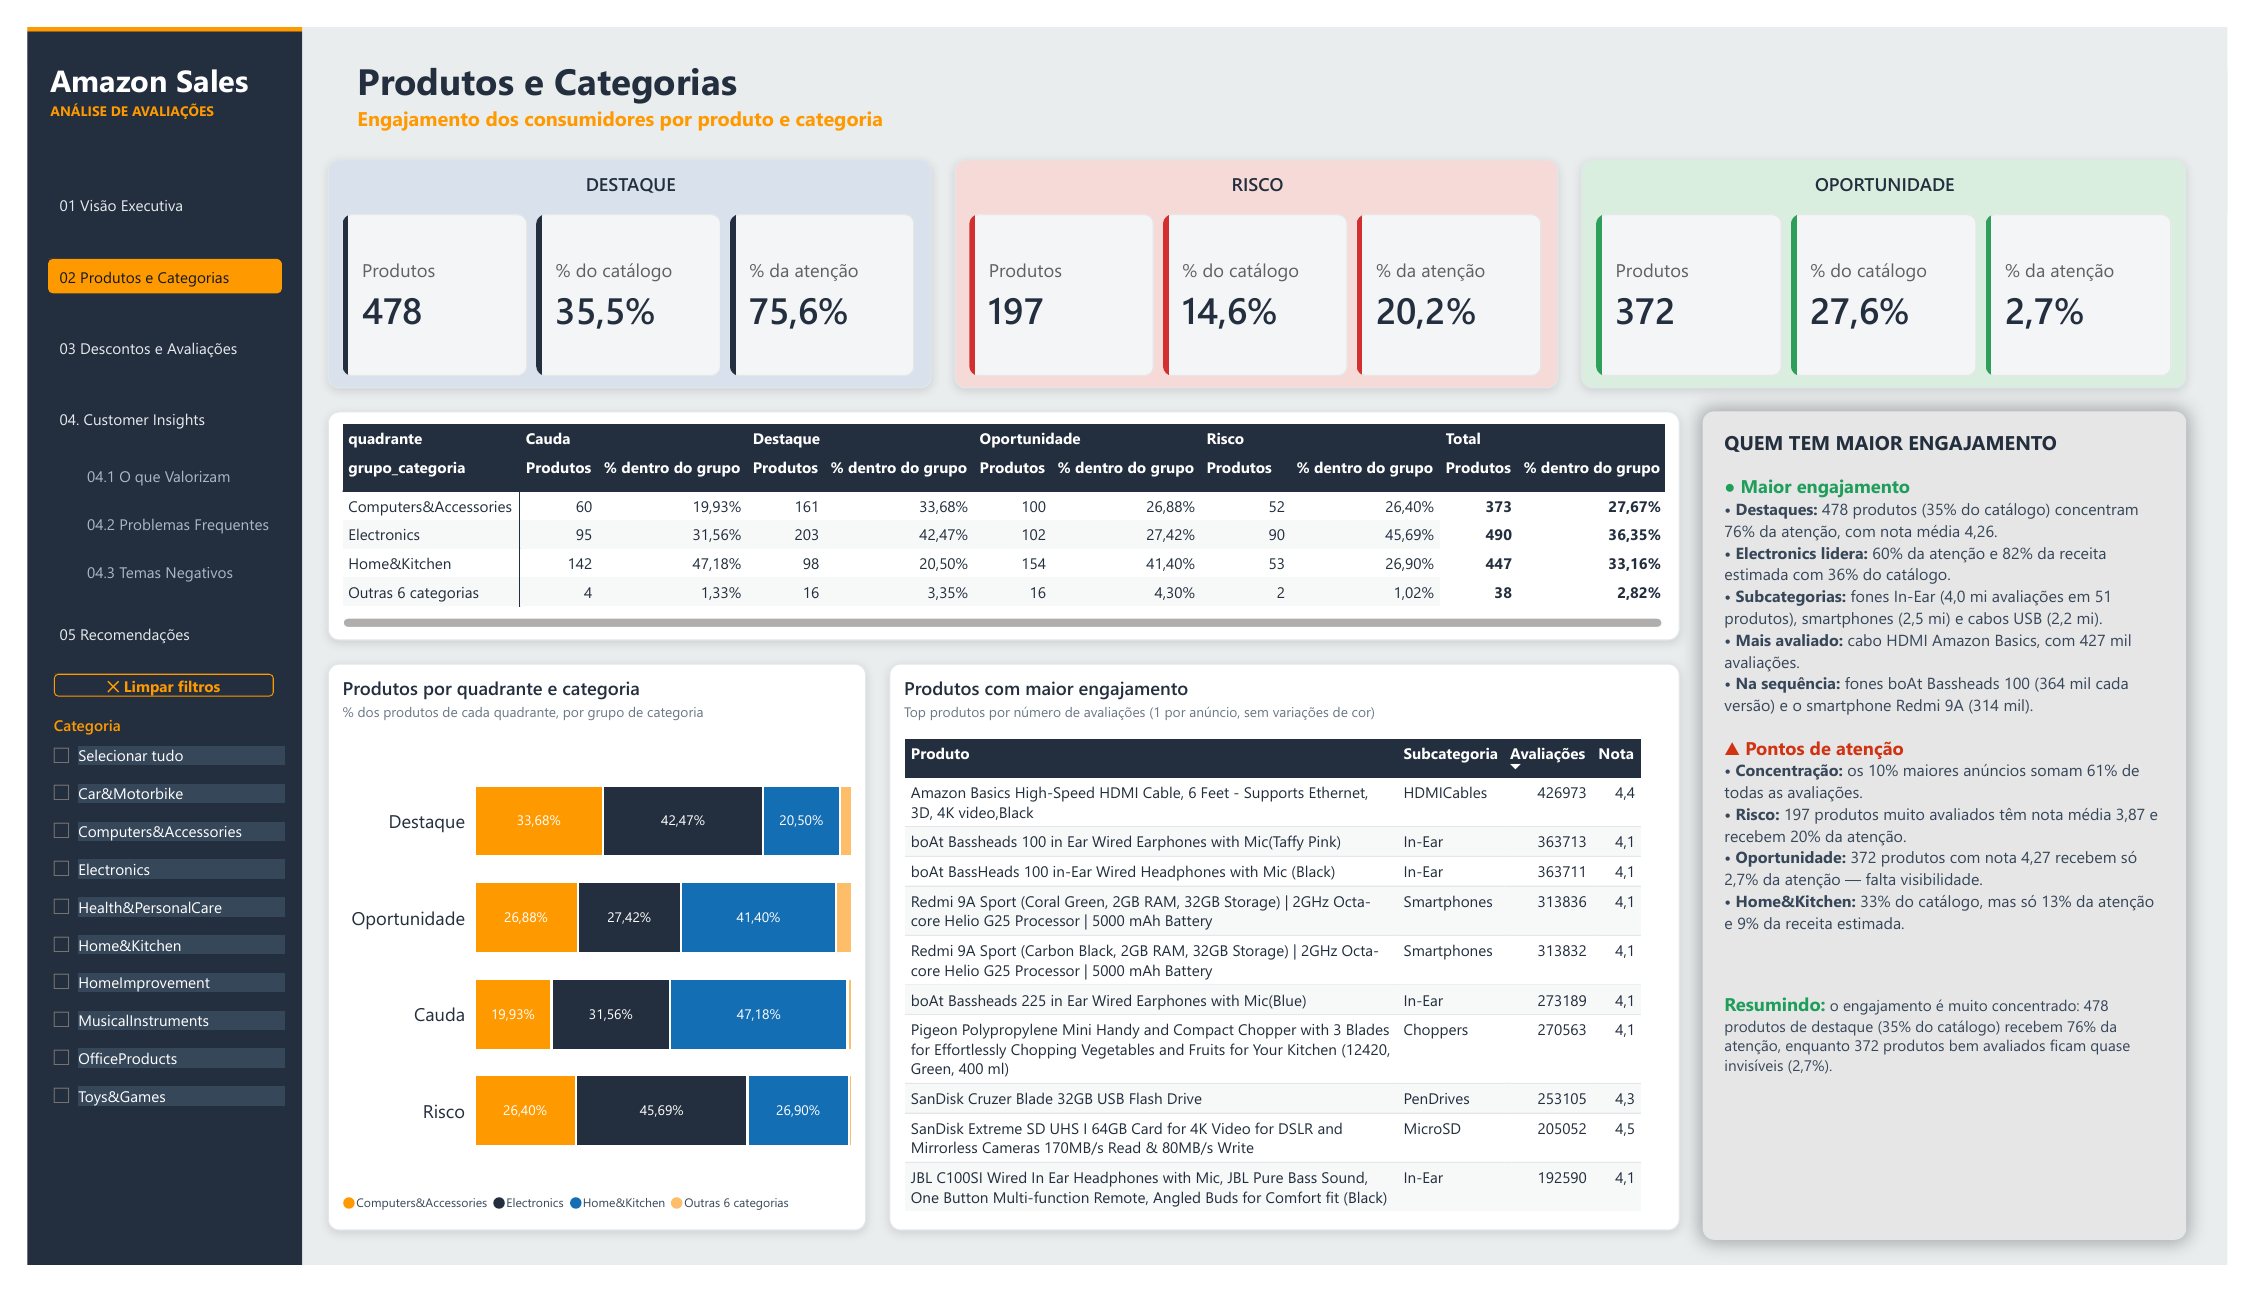

The dashboard page shown, as its layout file describes it:
{"tool":"powerbi","page":{"name":"02 Produtos e Categorias","canvas":[1920,1080],"ordinal":1},"visuals":[{"type":"textbox","box":[0,0,240,110],"z":0},{"type":"cardVisual","title":"DESTAQUE","fields":{"Data":["Medidas_P6.Produtos","Medidas_P6.% do catálogo","Medidas_P6.% da atenção"]},"box":[262,115,527,200],"z":1000},{"type":"cardVisual","title":"RISCO","fields":{"Data":["Medidas_P6.Produtos","Medidas_P6.% do catálogo","Medidas_P6.% da atenção"]},"box":[809,115,527,200],"z":2000},{"type":"cardVisual","title":"OPORTUNIDADE","fields":{"Data":["Medidas_P6.Produtos","Medidas_P6.% do catálogo","Medidas_P6.% da atenção"]},"box":[1356,115,528,200],"z":3000},{"type":"pivotTable","fields":{"Columns":["JO_P6_Engajamento.quadrante"],"Rows":["JO_P6_Engajamento.grupo_categoria"],"Values":["Medidas_P6.Produtos","Medidas_P6.% dentro do grupo"]},"box":[262,335,1180,200],"z":4000},{"type":"tableEx","title":"Produtos com maior engajamento","fields":{"Values":["JO_P6_Engajamento.product_name","JO_P6_Engajamento.categoria_folha","Medidas_P6.Avaliações","Medidas_P6.Nota média"]},"box":[752,555,690,495],"z":5000},{"type":"hundredPercentStackedBarChart","title":"Produtos por quadrante e categoria","fields":{"Category":["JO_P6_Engajamento.quadrante"],"Series":["JO_P6_Engajamento.grupo_categoria"],"Y":["Medidas_P6.Produtos"]},"box":[262,555,470,495],"z":6000},{"type":"actionButton","box":[6,130,228,50],"z":7000},{"type":"actionButton","box":[6,192,228,50],"z":8000},{"type":"actionButton","box":[6,254,228,50],"z":9000},{"type":"actionButton","box":[6,504,228,50],"z":10000},{"type":"actionButton","box":[6,316,228,50],"z":11000},{"type":"actionButton","box":[30,372,198,38],"z":12000},{"type":"actionButton","box":[30,414,198,38],"z":13000},{"type":"actionButton","box":[30,456,198,38],"z":14000},{"type":"slicer","fields":{"Values":["BU_dProdutos.categoria_n1"]},"box":[11.4,600,217.1,351.4],"z":15000},{"type":"actionButton","box":[11.4,554.3,216,40],"z":16000},{"type":"textbox","box":[276,14,1600,92],"z":17000},{"type":"textbox","box":[1462,335,422,723],"z":18000}]}

Visuals, with their boxes on the page's 1920x1080 design canvas (x1, y1, x2, y2). These are canvas units, not pixel positions in the 2255x1293 screenshot, which may show the page scaled, cropped or inside an application window:
textbox: BBox(0, 0, 240, 110)
"DESTAQUE" cardVisual: BBox(262, 115, 789, 315)
"RISCO" cardVisual: BBox(809, 115, 1336, 315)
"OPORTUNIDADE" cardVisual: BBox(1356, 115, 1884, 315)
pivotTable - JO_P6_Engajamento.quadrante x JO_P6_Engajamento.grupo_categoria: BBox(262, 335, 1442, 535)
"Produtos com maior engajamento" tableEx: BBox(752, 555, 1442, 1050)
"Produtos por quadrante e categoria" hundredPercentStackedBarChart: BBox(262, 555, 732, 1050)
actionButton: BBox(6, 130, 234, 180)
actionButton: BBox(6, 192, 234, 242)
actionButton: BBox(6, 254, 234, 304)
actionButton: BBox(6, 504, 234, 554)
actionButton: BBox(6, 316, 234, 366)
actionButton: BBox(30, 372, 228, 410)
actionButton: BBox(30, 414, 228, 452)
actionButton: BBox(30, 456, 228, 494)
slicer - BU_dProdutos.categoria_n1: BBox(11, 600, 228, 951)
actionButton: BBox(11, 554, 227, 594)
textbox: BBox(276, 14, 1876, 106)
textbox: BBox(1462, 335, 1884, 1058)
